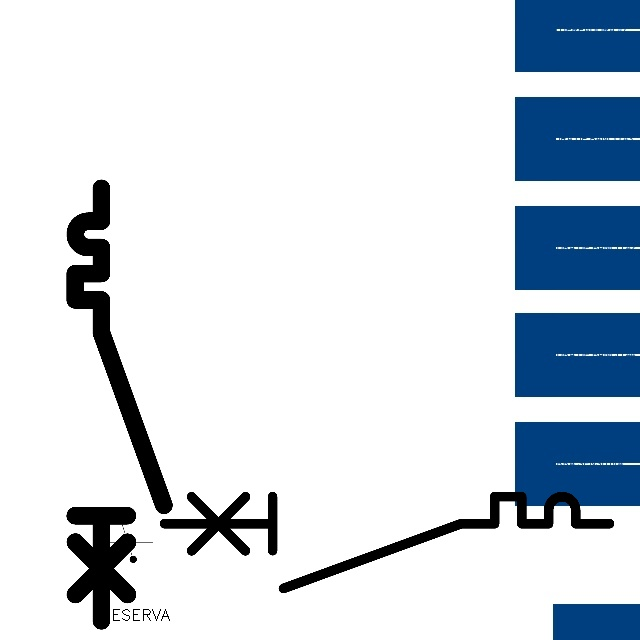interruptor_termomagnetico: (152, 485, 620, 599), (64, 177, 175, 632)
